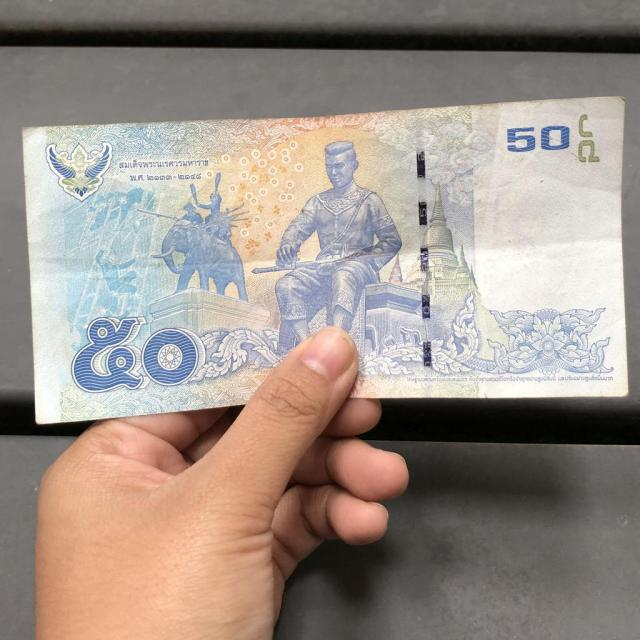THAI50: (21, 97, 629, 428)
